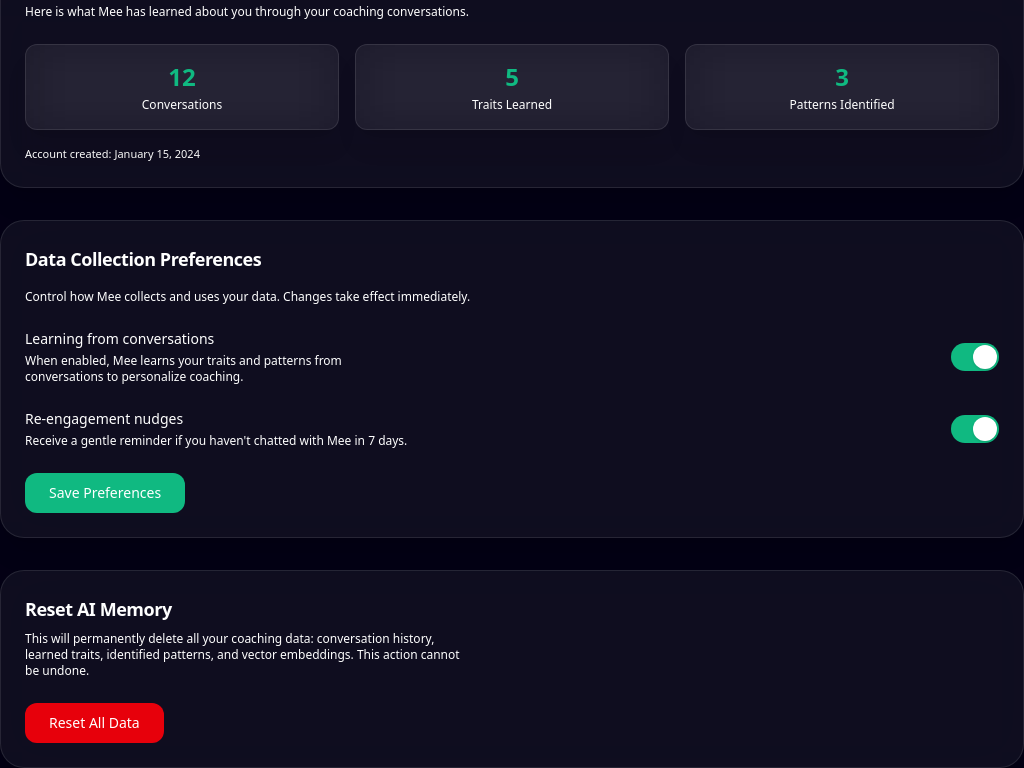
Test: PrivacyControls › resets memory on confirmation
(page scrolled)
What coordinates should you click on to do the following:
click the button "Reset All Data"
I would click on:
 (94, 722)
Its box is 25,702 -> 164,742.
(page scrolled)
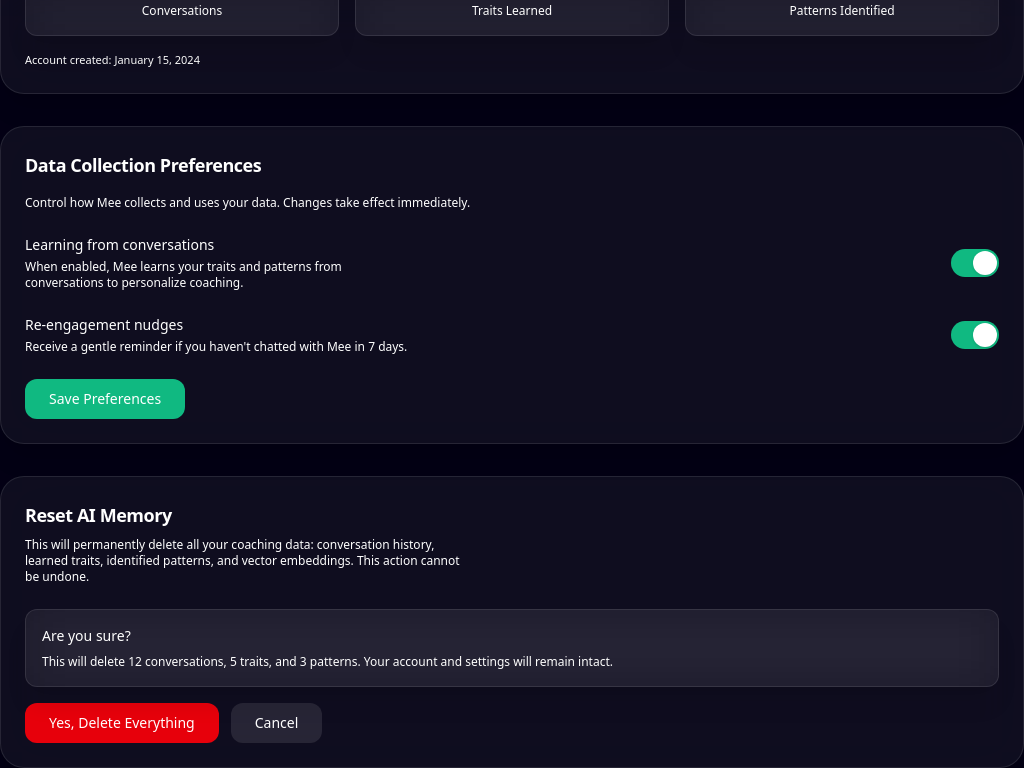
What coordinates should you click on to do the following:
click the button "Yes, Delete Everything"
I would click on:
 (122, 722)
Its box is 25,702 -> 219,742.
(page scrolled)
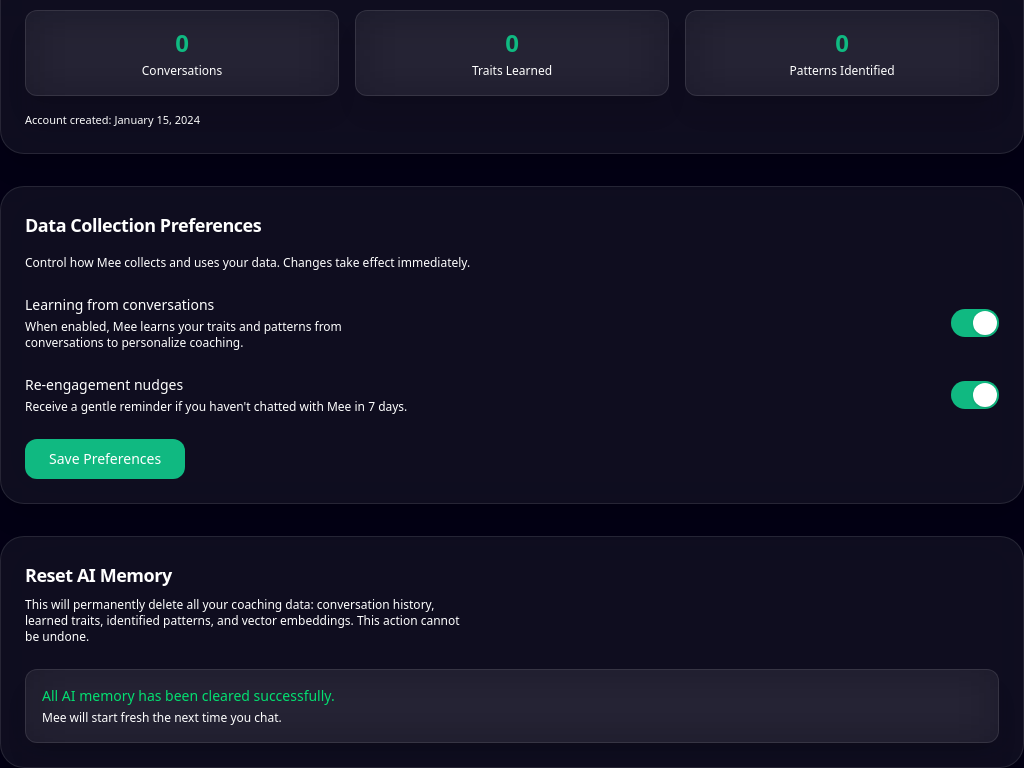
expect the text "All AI memory has been cleared successfully." is shown: met, box 42,686 -> 335,704
